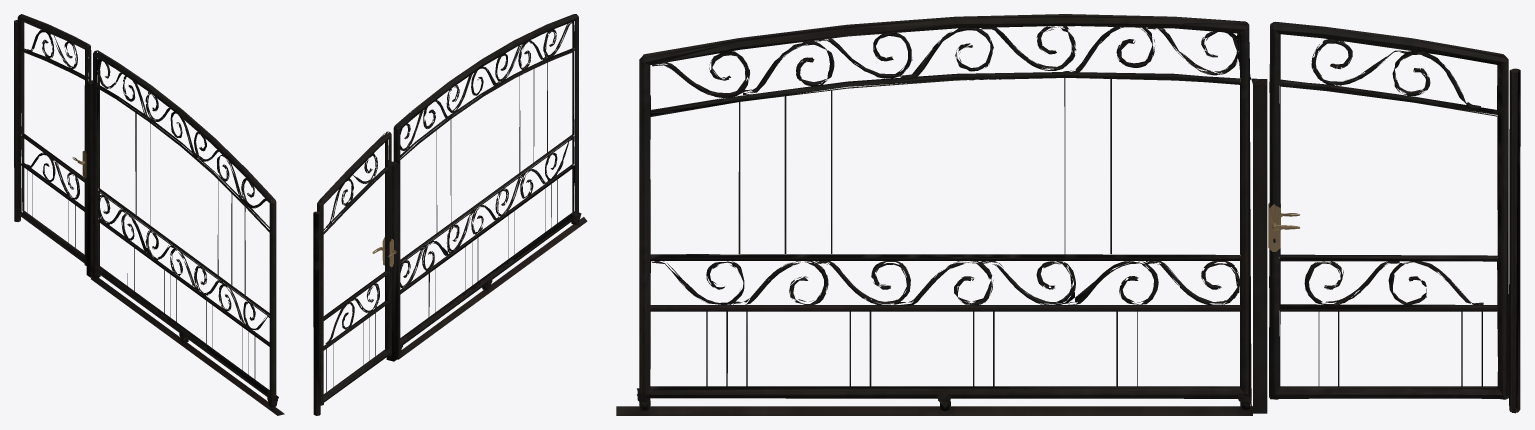
Rendered from v_gate.glb.
The picture shows the model from 3 angles, left to right: view 1: azimuth 30°, elevation 25°; view 2: azimuth 150°, elevation 25°; view 3: azimuth 270°, elevation 25°; orthographic projection. The views are drawn at different scales.
Size of the model in its own units: 0.5757 by 7.2 by 14.81.
Materials: 2 (1 with a texture image).
